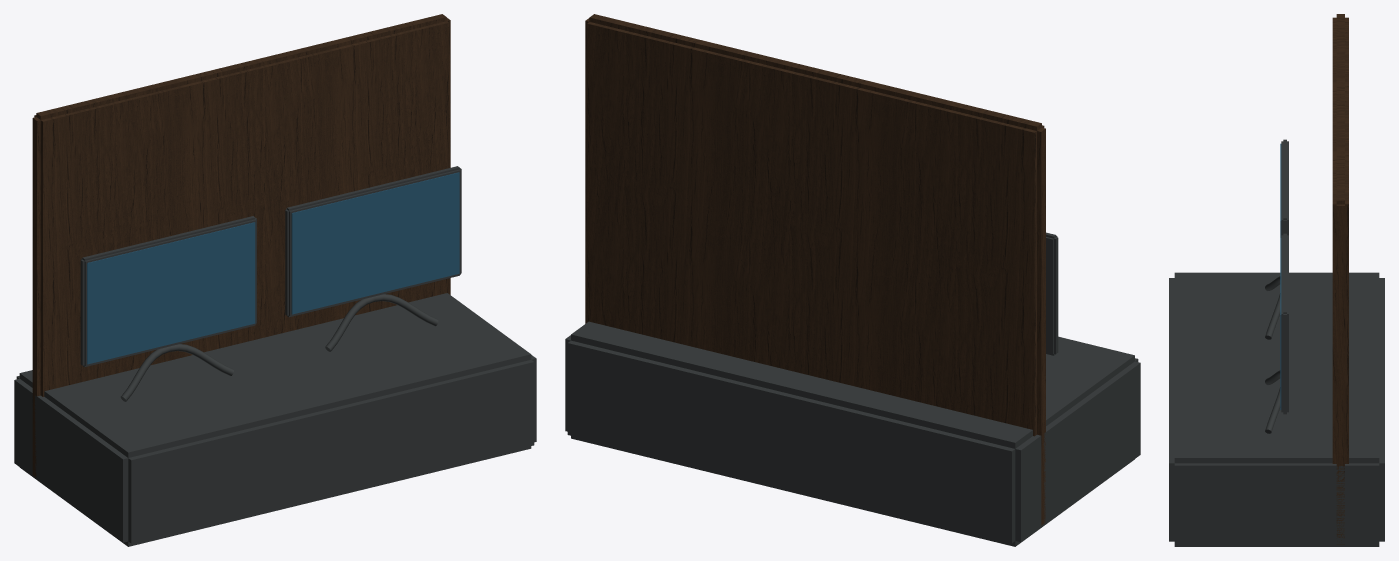
The model's file is screen_compare_v293.glb.
3 views of the same model, side by side, from view 1: azimuth 30°, elevation 25°; view 2: azimuth 150°, elevation 25°; view 3: azimuth 270°, elevation 25° (orthographic). The views are drawn at different scales.
Visible parts, largest first — view 1: screen_compare_v293_Anodised_graphite, screen_compare_v293_CC0_Smoked_walnut, screen_compare_v293_FY21_display_screen.001, screen_compare_v293_FY21_display_screen.002, screen_compare_v293_Anodised_graphite.005, screen_compare_v293_Anodised_graphite.004; view 2: screen_compare_v293_CC0_Smoked_walnut, screen_compare_v293_Anodised_graphite, screen_compare_v293_Anodised_graphite.004; view 3: screen_compare_v293_Anodised_graphite, screen_compare_v293_CC0_Smoked_walnut, screen_compare_v293_Anodised_graphite.005, screen_compare_v293_Anodised_graphite.004, screen_compare_v293_FY21_display_screen.002.
Part boxes in pixels (bbox=[...]): screen_compare_v293_Anodised_graphite: bbox=[14, 293, 536, 546]; screen_compare_v293_CC0_Smoked_walnut: bbox=[32, 14, 450, 477]; screen_compare_v293_FY21_display_screen.001: bbox=[87, 222, 255, 364]; screen_compare_v293_FY21_display_screen.002: bbox=[291, 172, 459, 314]; screen_compare_v293_Anodised_graphite.005: bbox=[285, 166, 461, 351]; screen_compare_v293_Anodised_graphite.004: bbox=[80, 216, 256, 401]; screen_compare_v293_CC0_Smoked_walnut: bbox=[585, 14, 1045, 525]; screen_compare_v293_Anodised_graphite: bbox=[565, 321, 1140, 546]; screen_compare_v293_Anodised_graphite.004: bbox=[1046, 232, 1058, 355]; screen_compare_v293_Anodised_graphite: bbox=[1169, 272, 1384, 546]; screen_compare_v293_CC0_Smoked_walnut: bbox=[1332, 14, 1348, 544]; screen_compare_v293_Anodised_graphite.005: bbox=[1265, 233, 1288, 433]; screen_compare_v293_Anodised_graphite.004: bbox=[1265, 139, 1288, 339]; screen_compare_v293_FY21_display_screen.002: bbox=[1280, 238, 1281, 409].
Size of the model in its own units: 2.75 by 2.34 by 1.32.
Materials: 6 (1 with a texture image).
